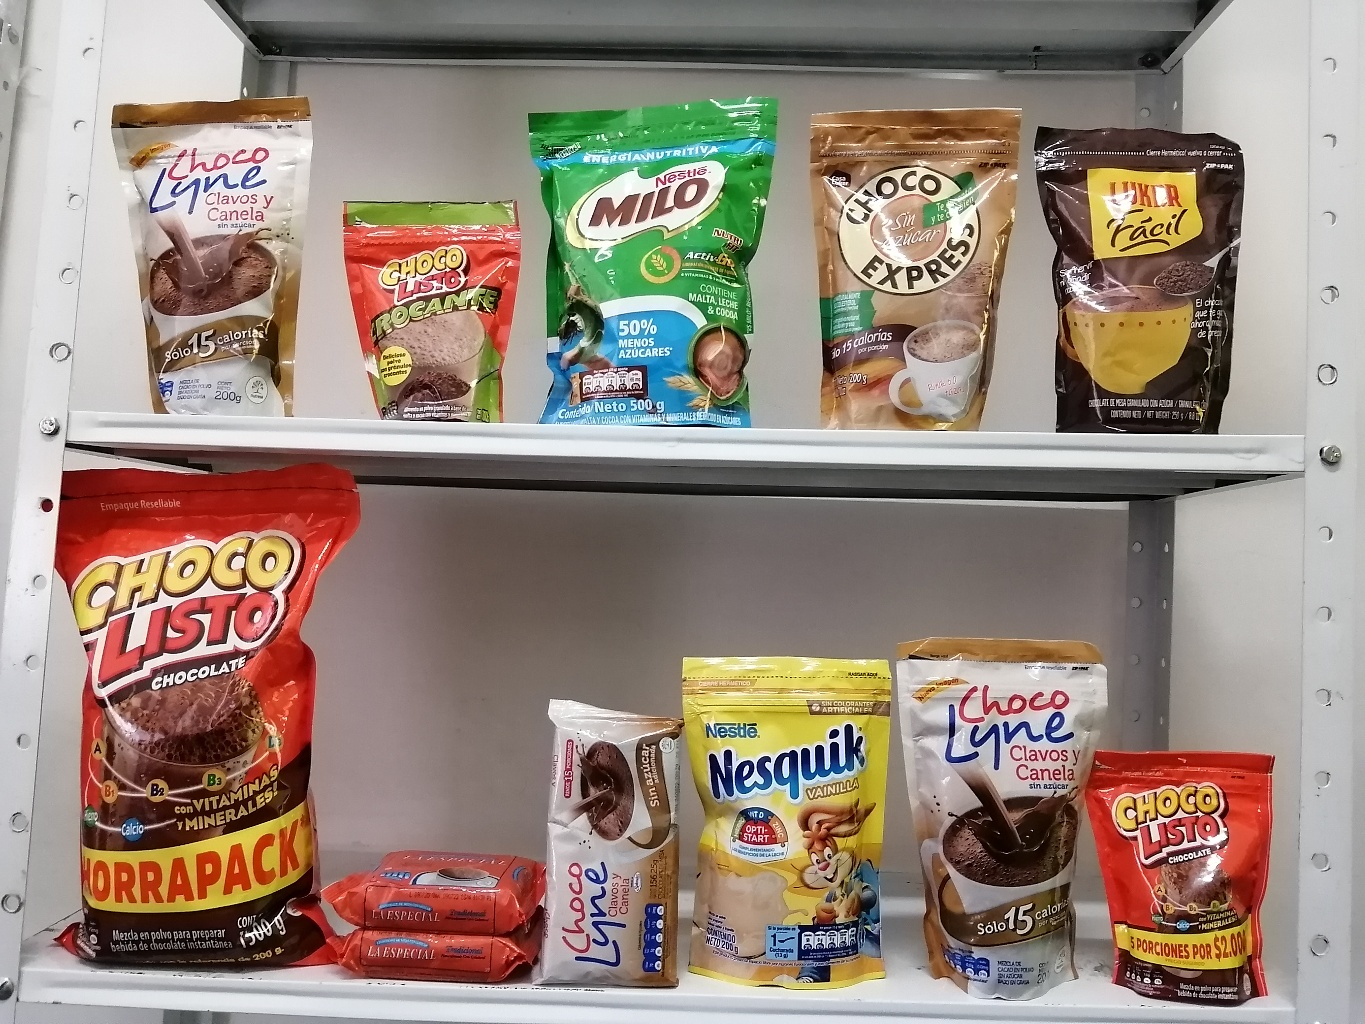COL0170102DYP10000: (319, 183, 528, 430)
COL0170103DYP1,500: (45, 450, 362, 968)
COL0170205DYP50000: (523, 81, 786, 419)
COL0170306DYP20000: (672, 645, 905, 985)
